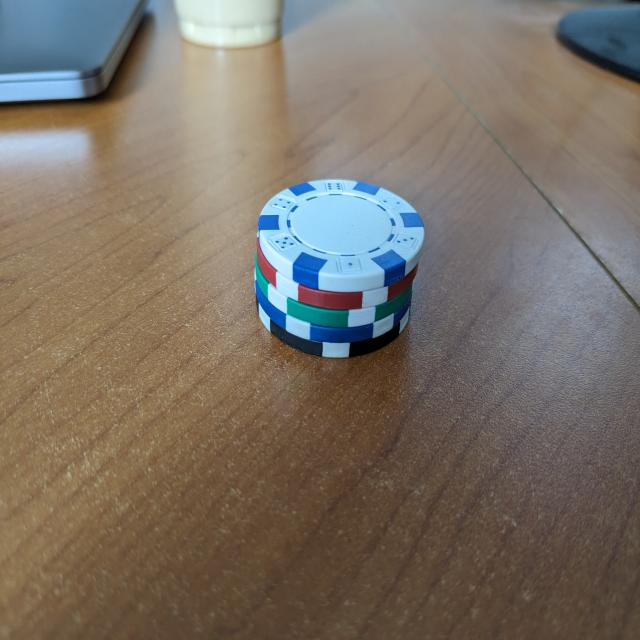chips: (254, 178, 424, 356)
